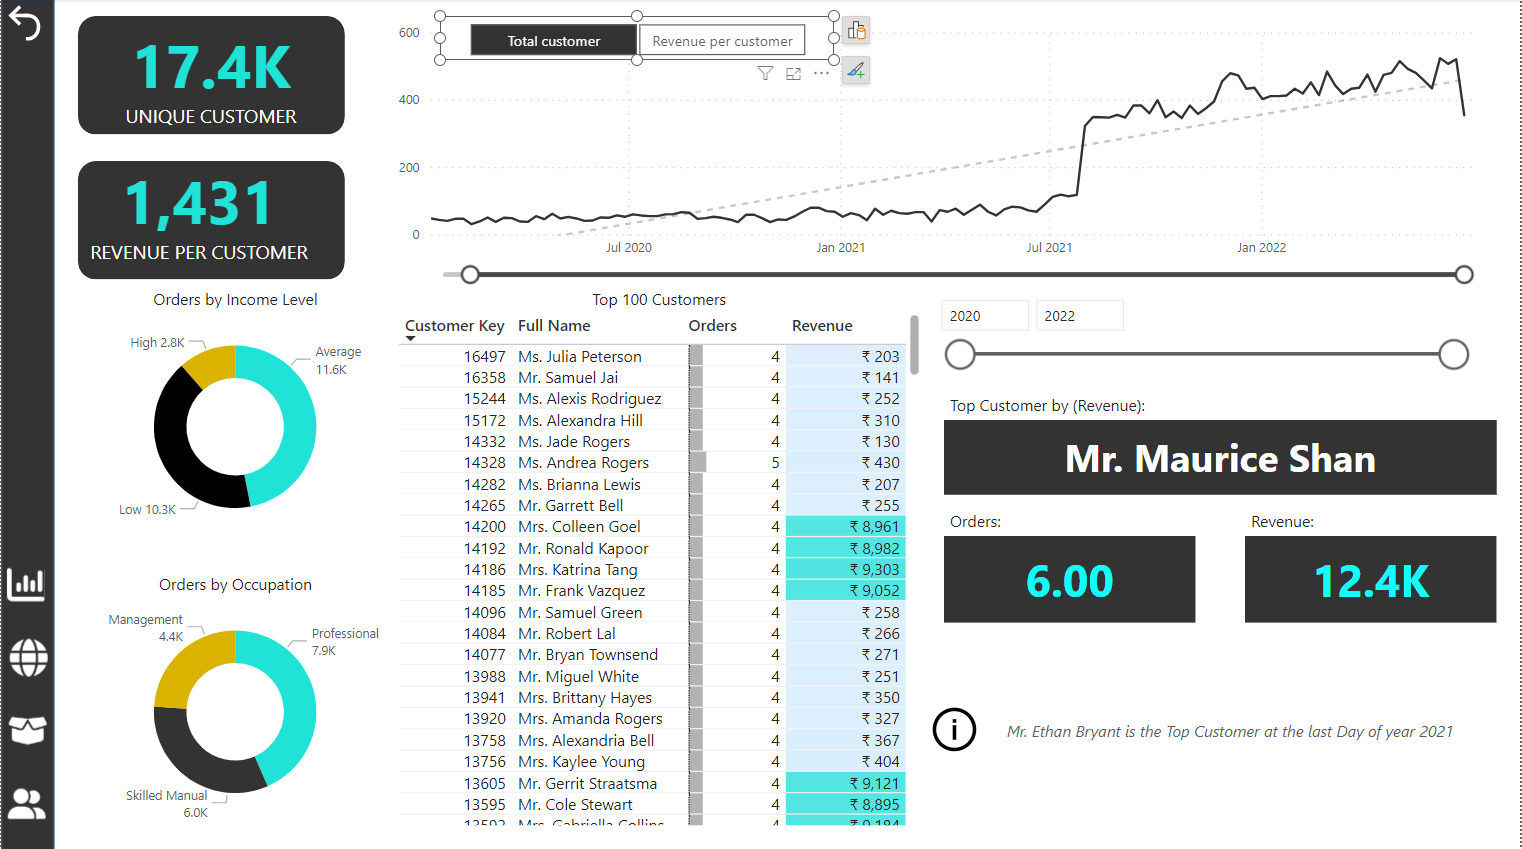

This screenshot's page, from the dashboard's own definition file:
{"tool":"powerbi","page":{"name":"Customer Detail","canvas":[1280,720],"ordinal":3},"visuals":[{"type":"shape","box":[0,0,44.8,720],"z":0},{"type":"actionButton","box":[2.8,596.4,44.8,40.3],"z":0,"group":"g1"},{"type":"actionButton","box":[1,473.7,44.8,40.3],"z":1000,"group":"g1"},{"type":"shape","box":[64.5,14.5,225.5,100],"z":2000},{"type":"actionButton","box":[1.9,658.2,44.8,40.3],"z":2000,"group":"g1"},{"type":"actionButton","box":[3.7,535.5,44.8,40.3],"z":3000,"group":"g1"},{"type":"card","fields":{"Values":["Measure Table.Total customer"]},"box":[75.5,0,203.6,129.1],"z":4000},{"type":"shape","box":[64.5,136.4,225.5,100],"z":6000},{"type":"actionButton","box":[171,0,30.4,28.7],"z":7000},{"type":"card","fields":{"Values":["Measure Table.Average Revenue per customer"]},"box":[64.5,114.5,203.6,129.1],"z":8000},{"type":"lineChart","title":"Total Customer","fields":{"Y":["Measure Table.Total customer","Measure Table.Average Revenue per customer"],"Category":["Calendar Lookup.Date Hierarchy.Start of Year","Calendar Lookup.Date Hierarchy.Start of Month","Calendar Lookup.Date Hierarchy.Start of Week","Calendar Lookup.Date Hierarchy.Date"]},"box":[330,14.5,930,229.1],"z":9000},{"type":"donutChart","title":"Orders by Income Level","fields":{"Y":["Measure Table.Total orders"],"Category":["Customer Lookup.Income Level"]},"box":[64.5,243.6,265.5,217.3],"z":10000},{"type":"donutChart","title":"Orders by Occupation","fields":{"Y":["Measure Table.Total orders"],"Category":["Customer Lookup.Occupation"]},"box":[64.5,483.6,265.5,217.3],"z":11000},{"type":"tableEx","title":"Top 100 Customers","fields":{"Values":["Customer Lookup.CustomerKey","Customer Lookup.Full Name","Measure Table.Total orders","Measure Table.Total Revenue"]},"box":[329.6,243.6,450.4,457.6],"z":12000},{"type":"card","fields":{"Values":["Measure Table.Full Name (Customer Details)"]},"box":[795.2,354.7,465.7,62.7],"z":13000},{"type":"card","fields":{"Values":["Measure Table.Total Orders (Customer Details)"]},"box":[795.2,453.1,212.2,72.5],"z":14000},{"type":"card","fields":{"Values":["Measure Table.Total Revenue (Customer Details)"]},"box":[1048.7,453.1,212.2,72.5],"z":15000},{"type":"textbox","box":[795.2,327.9,184.5,26.9],"z":16000},{"type":"textbox","box":[1048.7,425.5,180,26.9],"z":17000},{"type":"textbox","box":[795.2,425.5,184.5,26.9],"z":18000},{"type":"slicer","fields":{"Values":["Calendar Lookup.Year"]},"box":[780,243.6,465.7,84.2],"z":19000},{"type":"actionButton","box":[780,591.9,480.9,48.4],"z":20000},{"type":"actionButton","box":[0,0,46.6,40.3],"z":21000},{"type":"group","id":"g1","title":"Navigation","box":[1,473.7,47.5,224.8],"z":22000},{"type":"slicer","fields":{"Values":["Customer Metric Selection.Customer Metric Selection"]},"box":[369.9,14.3,332.2,36.7],"z":24000}]}

Visuals, with their boxes on the page's 1280x720 design canvas (x1, y1, x2, y2). These are canvas units, not pixel positions in the 1522x849 screenshot, which may show the page scaled, cropped or inside an application window:
shape: {"x1": 0, "y1": 0, "x2": 45, "y2": 720}
actionButton: {"x1": 3, "y1": 596, "x2": 48, "y2": 637}
actionButton: {"x1": 1, "y1": 474, "x2": 46, "y2": 514}
shape: {"x1": 64, "y1": 14, "x2": 290, "y2": 114}
actionButton: {"x1": 2, "y1": 658, "x2": 47, "y2": 698}
actionButton: {"x1": 4, "y1": 536, "x2": 48, "y2": 576}
card - Measure Table.Total customer: {"x1": 76, "y1": 0, "x2": 279, "y2": 129}
shape: {"x1": 64, "y1": 136, "x2": 290, "y2": 236}
actionButton: {"x1": 171, "y1": 0, "x2": 201, "y2": 29}
card - Measure Table.Average Revenue per customer: {"x1": 64, "y1": 114, "x2": 268, "y2": 244}
"Total Customer" lineChart: {"x1": 330, "y1": 14, "x2": 1260, "y2": 244}
"Orders by Income Level" donutChart: {"x1": 64, "y1": 244, "x2": 330, "y2": 461}
"Orders by Occupation" donutChart: {"x1": 64, "y1": 484, "x2": 330, "y2": 701}
"Top 100 Customers" tableEx: {"x1": 330, "y1": 244, "x2": 780, "y2": 701}
card - Measure Table.Full Name (Customer Details): {"x1": 795, "y1": 355, "x2": 1261, "y2": 417}
card - Measure Table.Total Orders (Customer Details): {"x1": 795, "y1": 453, "x2": 1007, "y2": 526}
card - Measure Table.Total Revenue (Customer Details): {"x1": 1049, "y1": 453, "x2": 1261, "y2": 526}
textbox: {"x1": 795, "y1": 328, "x2": 980, "y2": 355}
textbox: {"x1": 1049, "y1": 426, "x2": 1229, "y2": 452}
textbox: {"x1": 795, "y1": 426, "x2": 980, "y2": 452}
slicer - Calendar Lookup.Year: {"x1": 780, "y1": 244, "x2": 1246, "y2": 328}
actionButton: {"x1": 780, "y1": 592, "x2": 1261, "y2": 640}
actionButton: {"x1": 0, "y1": 0, "x2": 47, "y2": 40}
"Navigation" group: {"x1": 1, "y1": 474, "x2": 48, "y2": 698}
slicer - Customer Metric Selection.Customer Metric Selection: {"x1": 370, "y1": 14, "x2": 702, "y2": 51}
